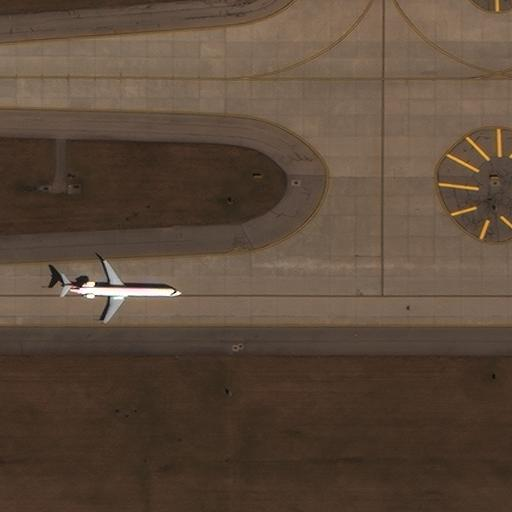Medium Civil Transport: (61, 258, 181, 323)
